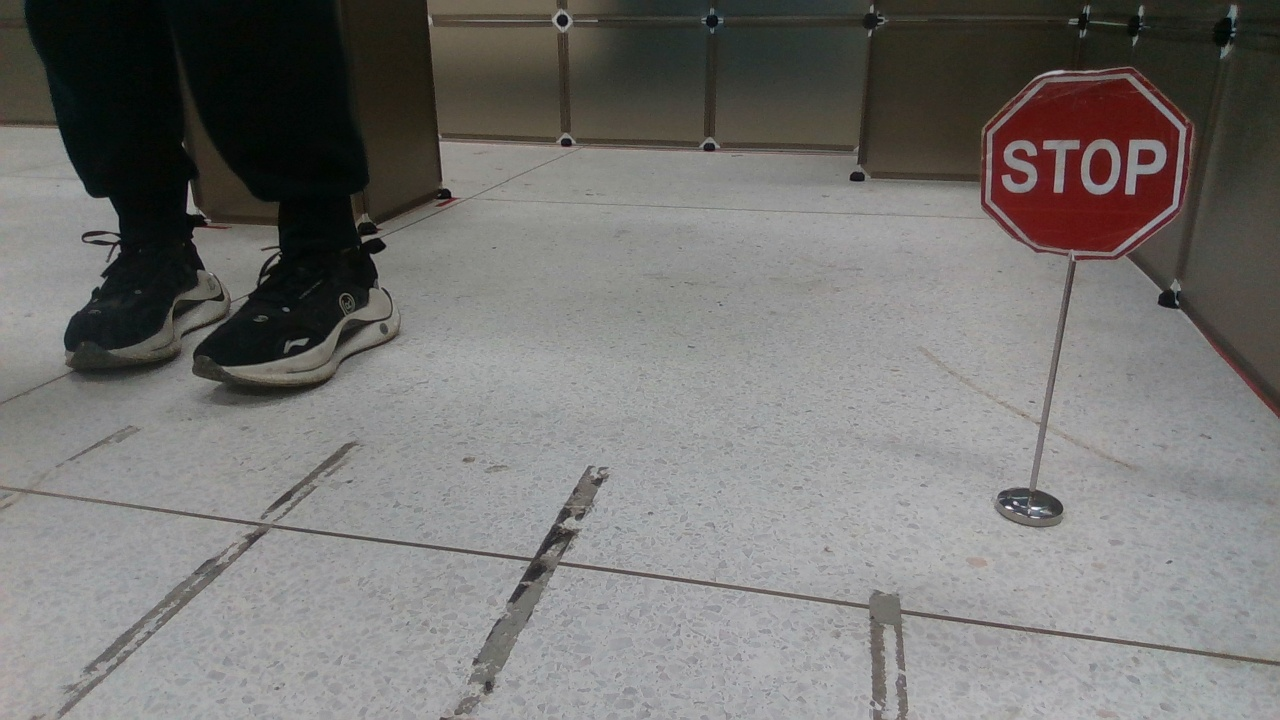Stop sign: (980, 60, 1193, 260)
